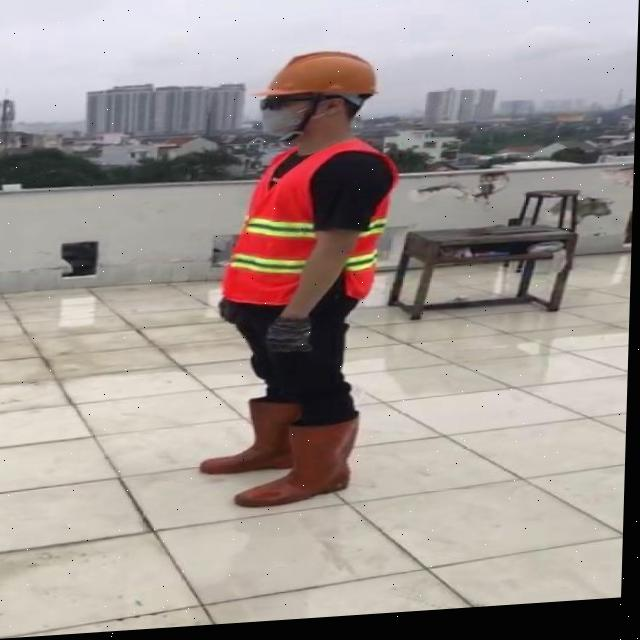Gloves: (267, 317, 317, 361)
Helmet: (251, 51, 382, 109)
Safety-Boot: (238, 415, 364, 512), (204, 398, 306, 478)
Safety-Vest: (224, 141, 402, 317)
